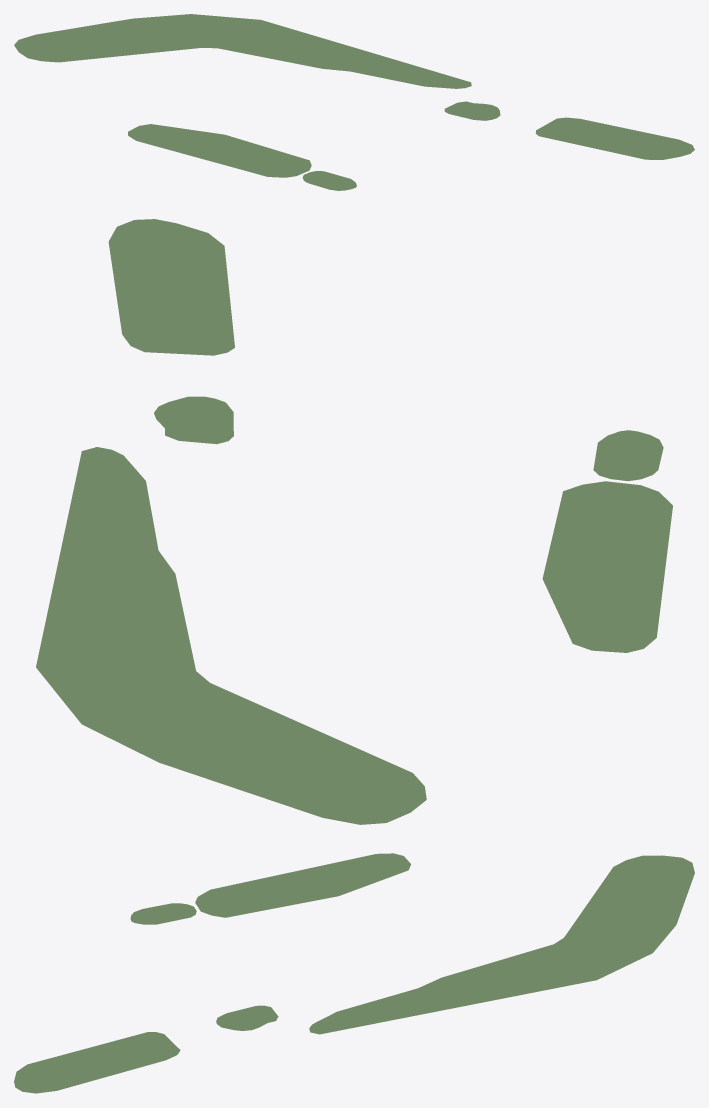
The model's file is c_1646_17833_parks.glb.
3 renders of one model, top to bottom at view 1: azimuth 30°, elevation 25°; view 2: azimuth 150°, elevation 25°; view 3: azimuth 270°, elevation 25°, orthographic. The views are drawn at different scales.
Visible parts, largest first — view 1: geometry_0; view 2: geometry_0; view 3: geometry_0.
Boxes of the visible parts, <box> form: geometry_0: <box>14,14,694,190</box>; geometry_0: <box>36,219,672,824</box>; geometry_0: <box>14,853,694,1093</box>.
Size of the model in its own units: 279 by 0 by 334.
